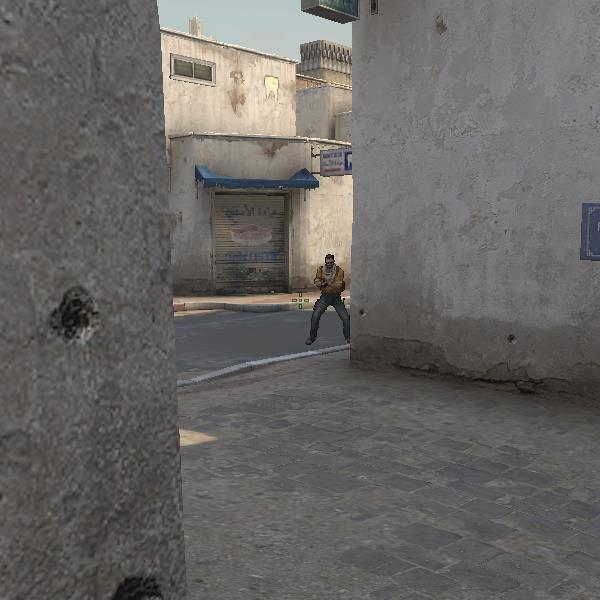t_body: (303, 251, 357, 347)
t_head: (320, 251, 339, 271)
